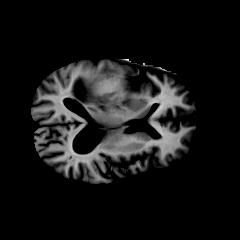glioma: (77, 74, 133, 110)
